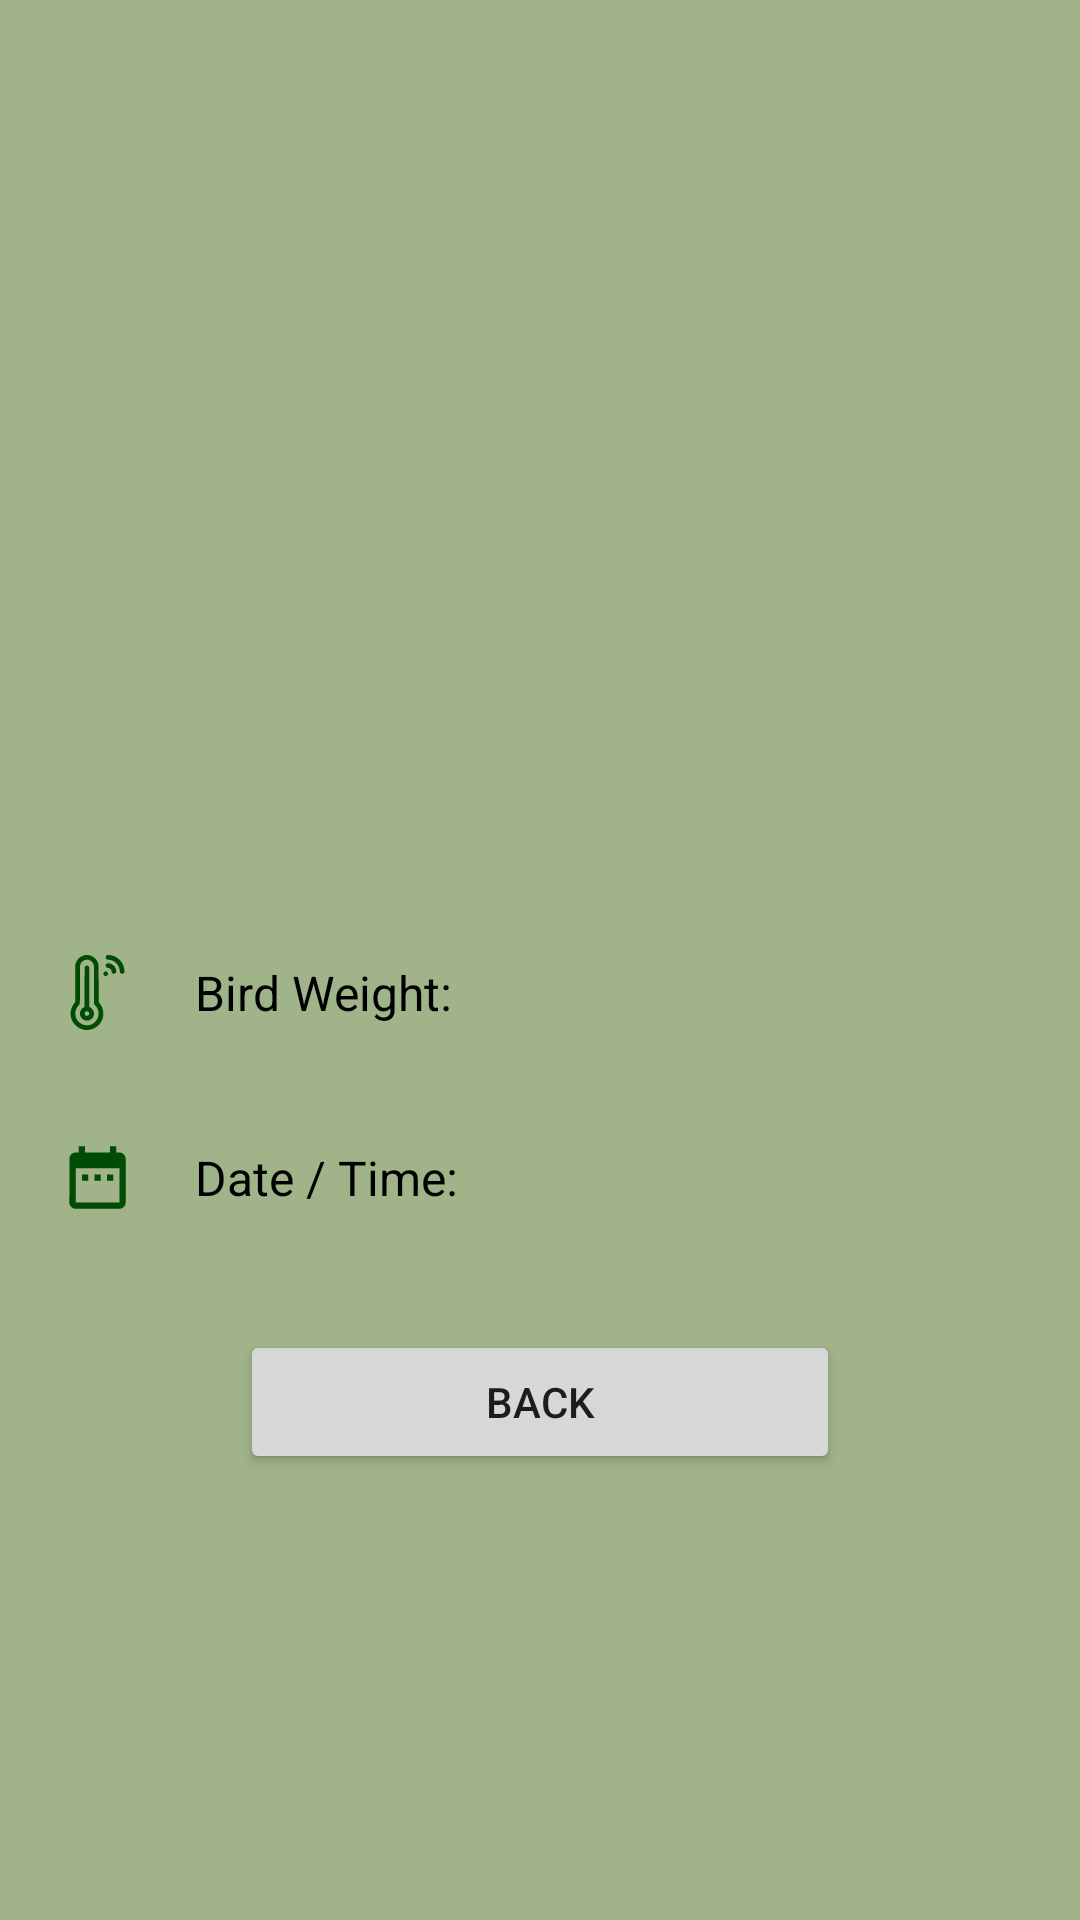

Icon click points for this 1080w x 1920h phone screenshot, format (x,y):
temperature: (97,992)
